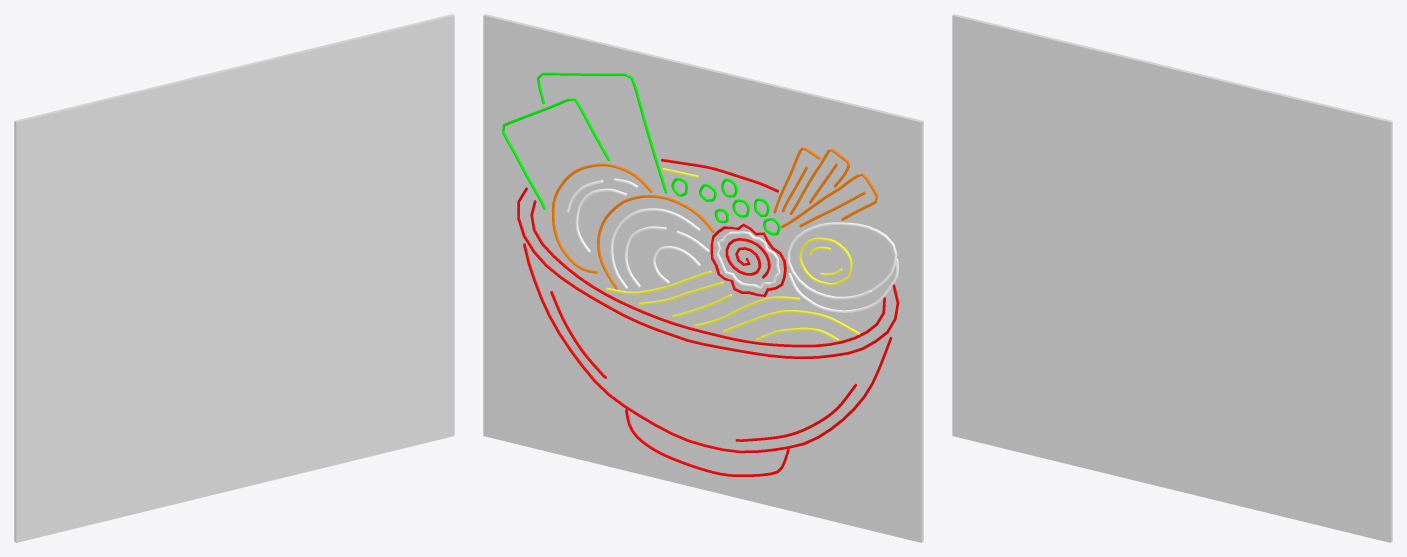
File: my-neon-sign-optimized (32).glb
The picture shows the model from 3 angles, left to right: view 1: azimuth 30°, elevation 25°; view 2: azimuth 150°, elevation 25°; view 3: azimuth 330°, elevation 25°; orthographic projection.
Bounding box in the file's own units: 848 × 778 × 16.4.
